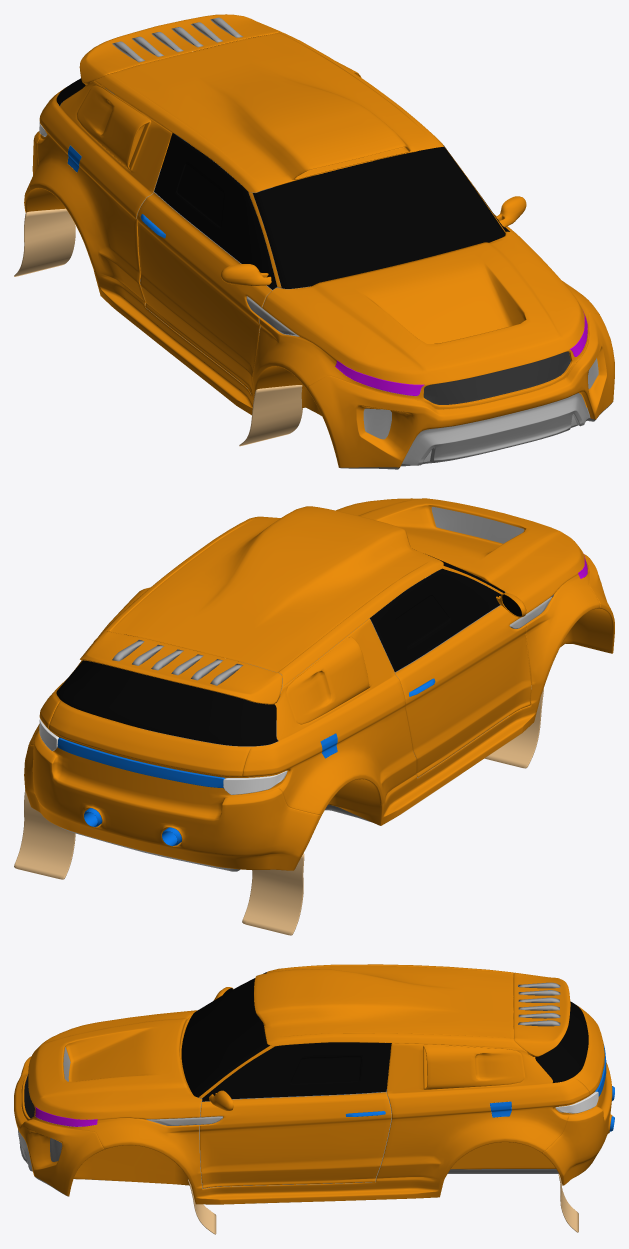
File: SportCar_3.fbx
3 views of the same model, one above another, from view 1: azimuth 30°, elevation 25°; view 2: azimuth 150°, elevation 25°; view 3: azimuth 270°, elevation 25° (orthographic). The views are drawn at different scales.
Parts seen in each view (by area): view 1: Body1, Windows1, Mud1, Plastics, FLight; view 2: Body1, Windows1, Mud1, Steels, Plastics, RLight; view 3: Body1, Windows1, Plastics, Mud1, Steels, FLight, RLight.
Part boxes in pixels (x1,y1,x2,y2): Body1: (24, 14, 614, 469); Windows1: (56, 36, 509, 289); Mud1: (14, 208, 302, 446); Plastics: (112, 17, 295, 334); FLight: (335, 311, 587, 395); Body1: (24, 498, 614, 871); Windows1: (56, 555, 505, 746); Mud1: (14, 685, 543, 935); Steels: (57, 678, 435, 846); Plastics: (112, 597, 551, 685); RLight: (39, 719, 287, 794); Body1: (14, 964, 612, 1204); Windows1: (181, 972, 588, 1101); Plastics: (151, 982, 560, 1125); Mud1: (188, 1082, 578, 1234); Steels: (346, 1044, 614, 1131); FLight: (35, 1106, 97, 1126); RLight: (555, 1091, 598, 1113).
Size of the model in its own units: 403 by 310 by 873.
